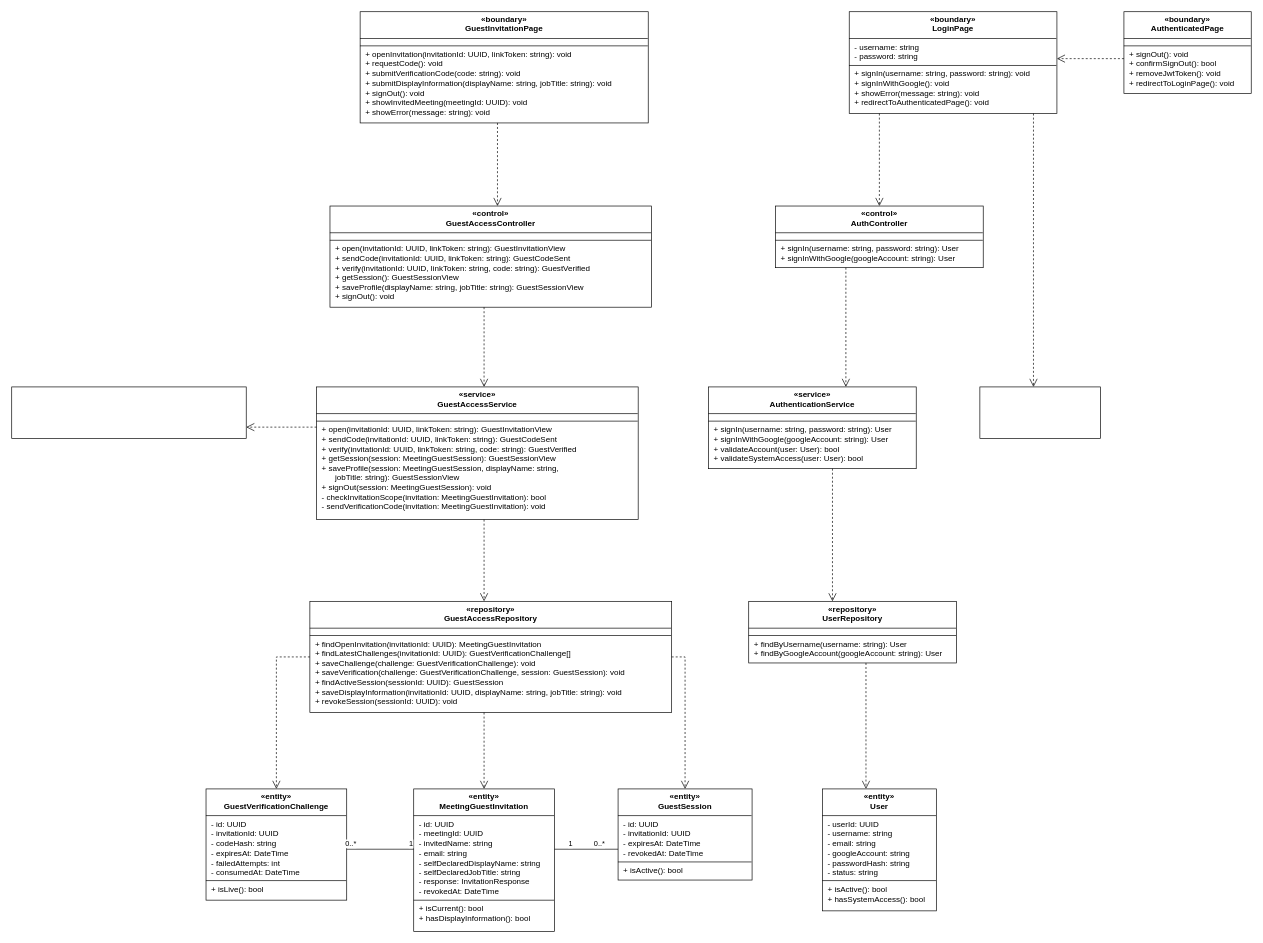
This 1263x943 diagram has some shape labels left out. The shapes that lost their labels are listed below. From the top down, each one's box as (x1, y1, x2, y2) in pixels, then its label:
(11, 386, 246, 439): «service» EmailService + sendVerificationCode(email: string, code: string): bool
(979, 386, 1100, 439): «external system» Google + openGoogleSignIn(): string
